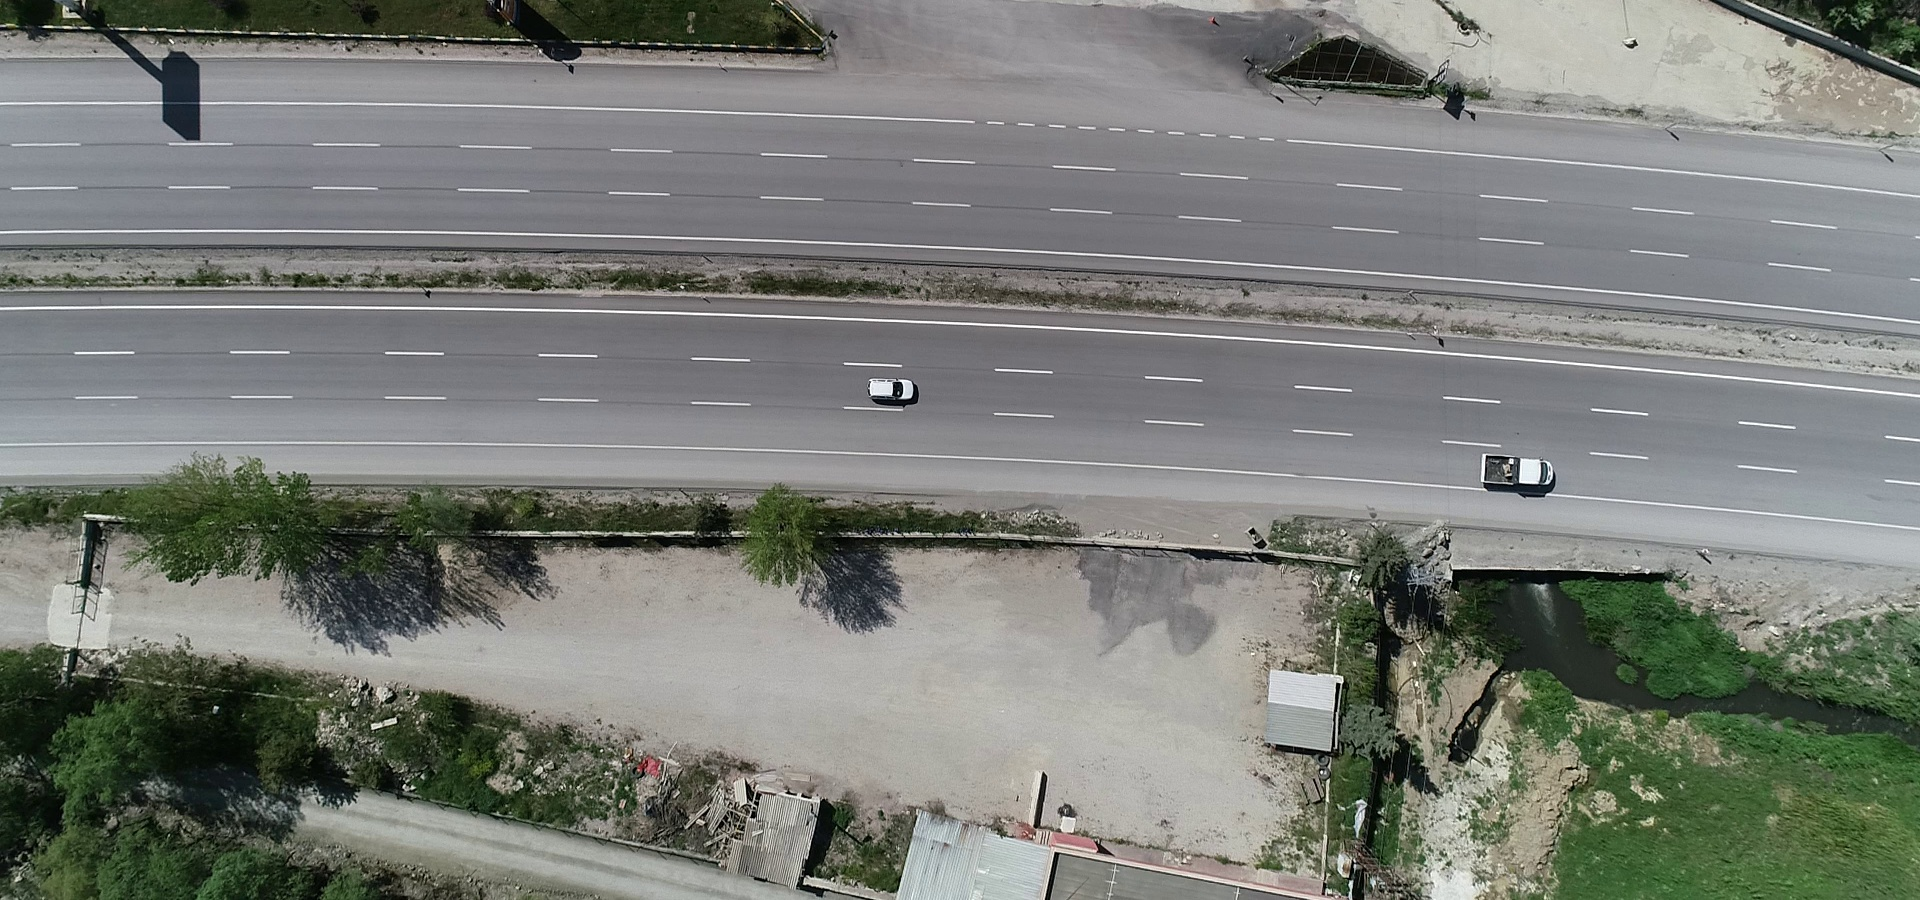araba: (856, 375, 927, 413)
kamyonet: (1476, 449, 1575, 492)
